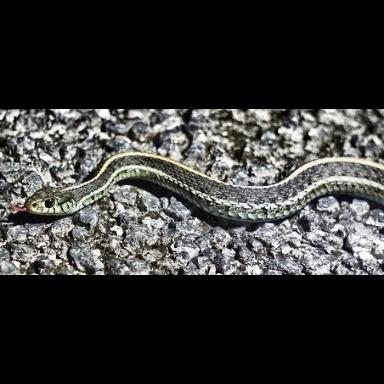snake: (11, 153, 384, 230)
